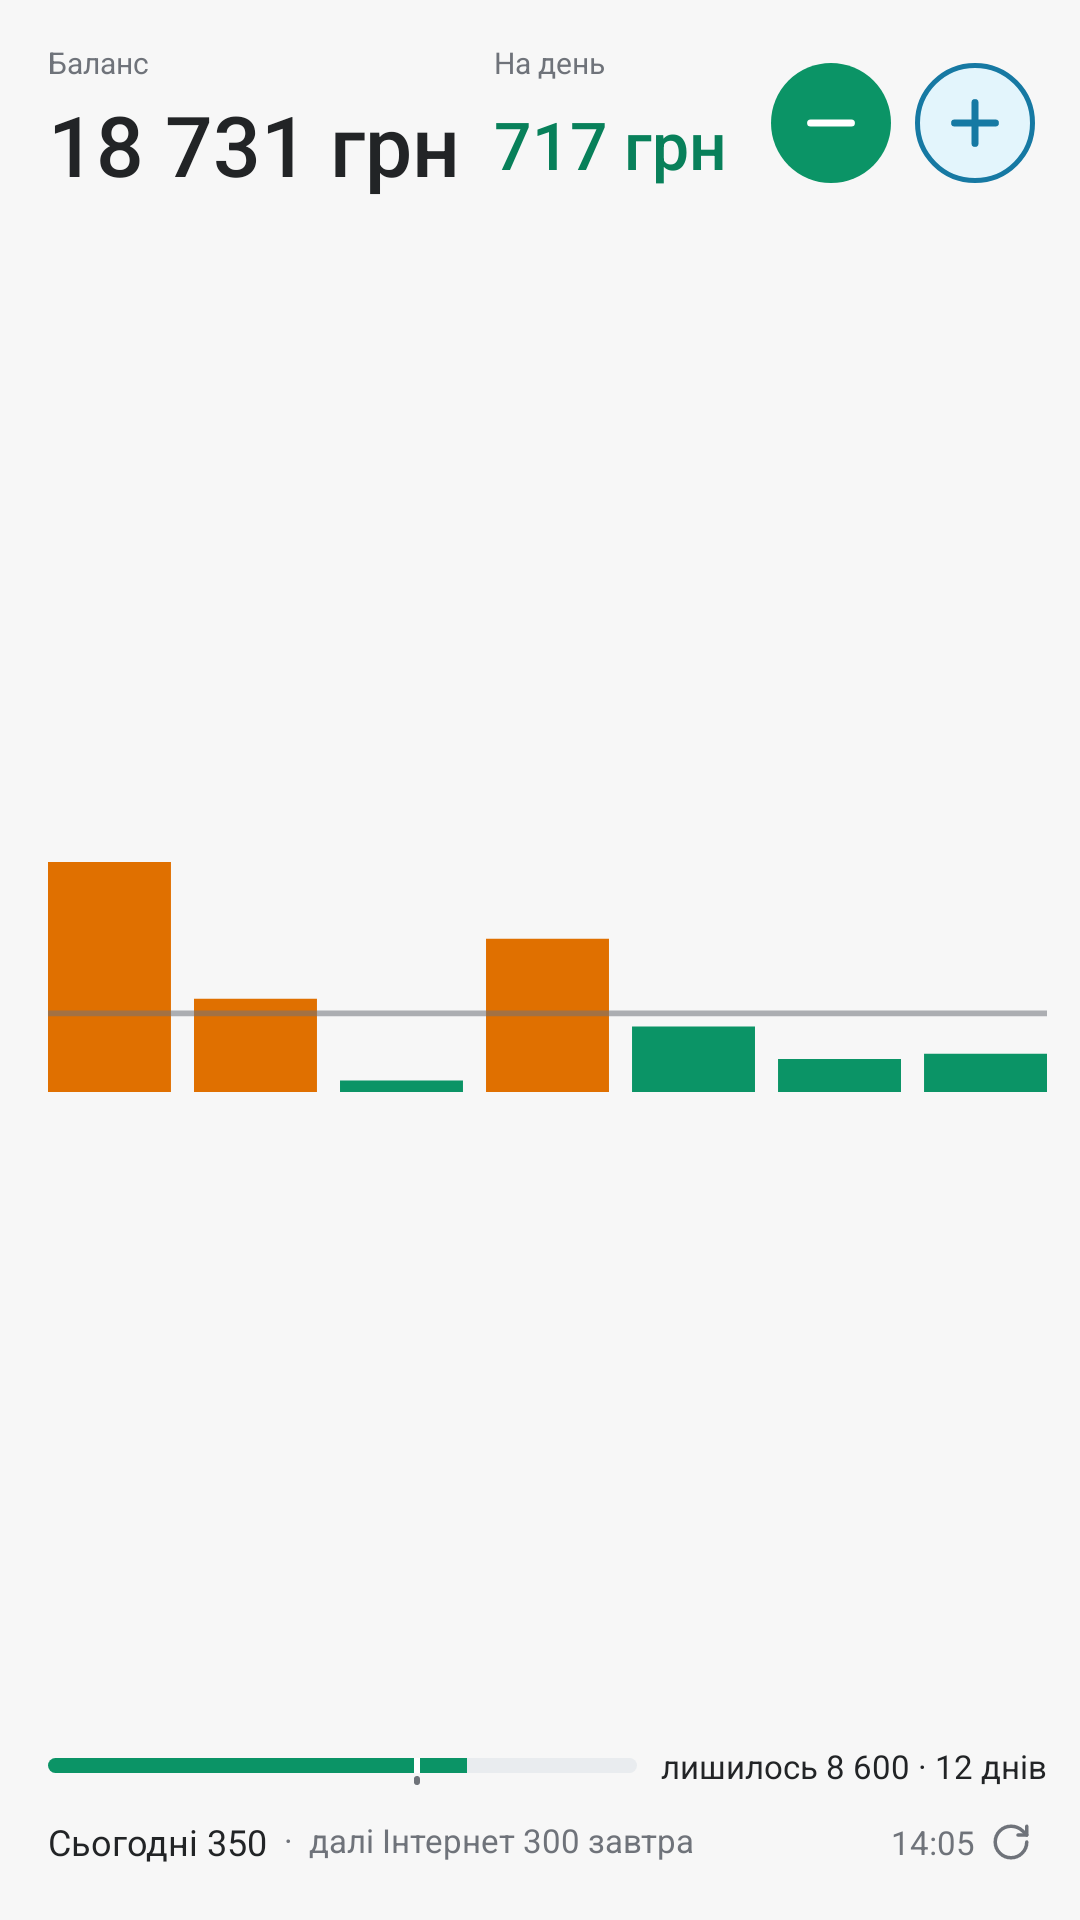

Icon click points for this 1080w x 1920h phone screenshot, format point (x, y):
Витрата: point (831, 123)
Дохід: point (975, 123)
Оновити: point (1011, 1842)
